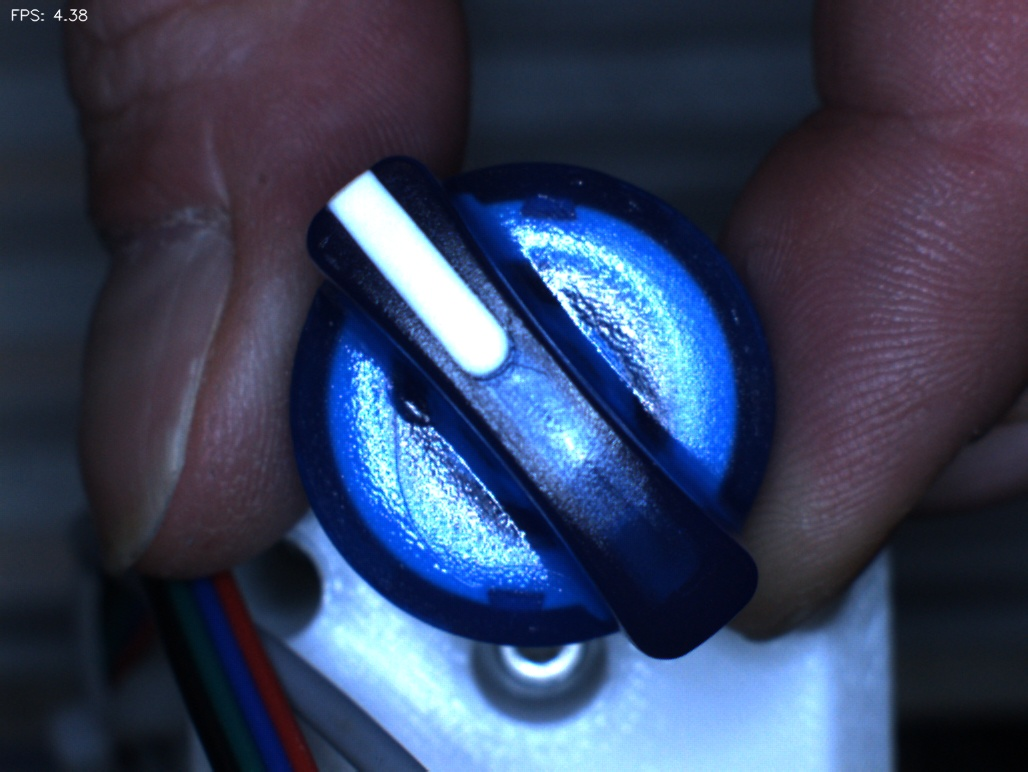Choc: (372, 364, 456, 448)
